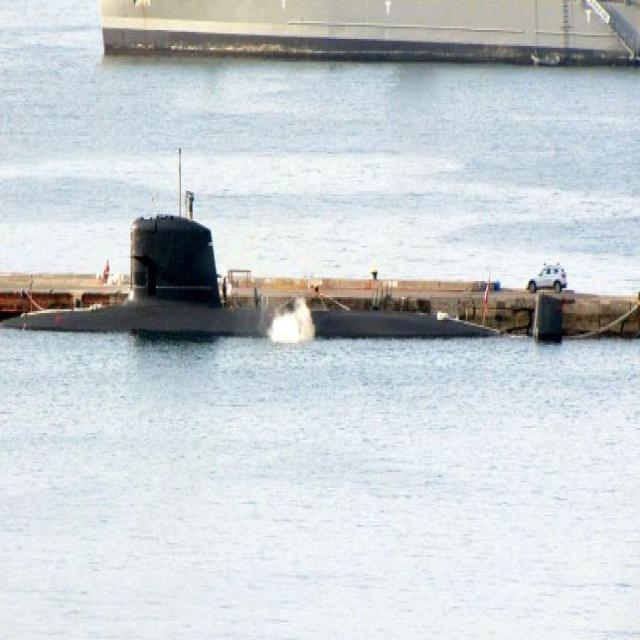submarine: (1, 213, 599, 335)
